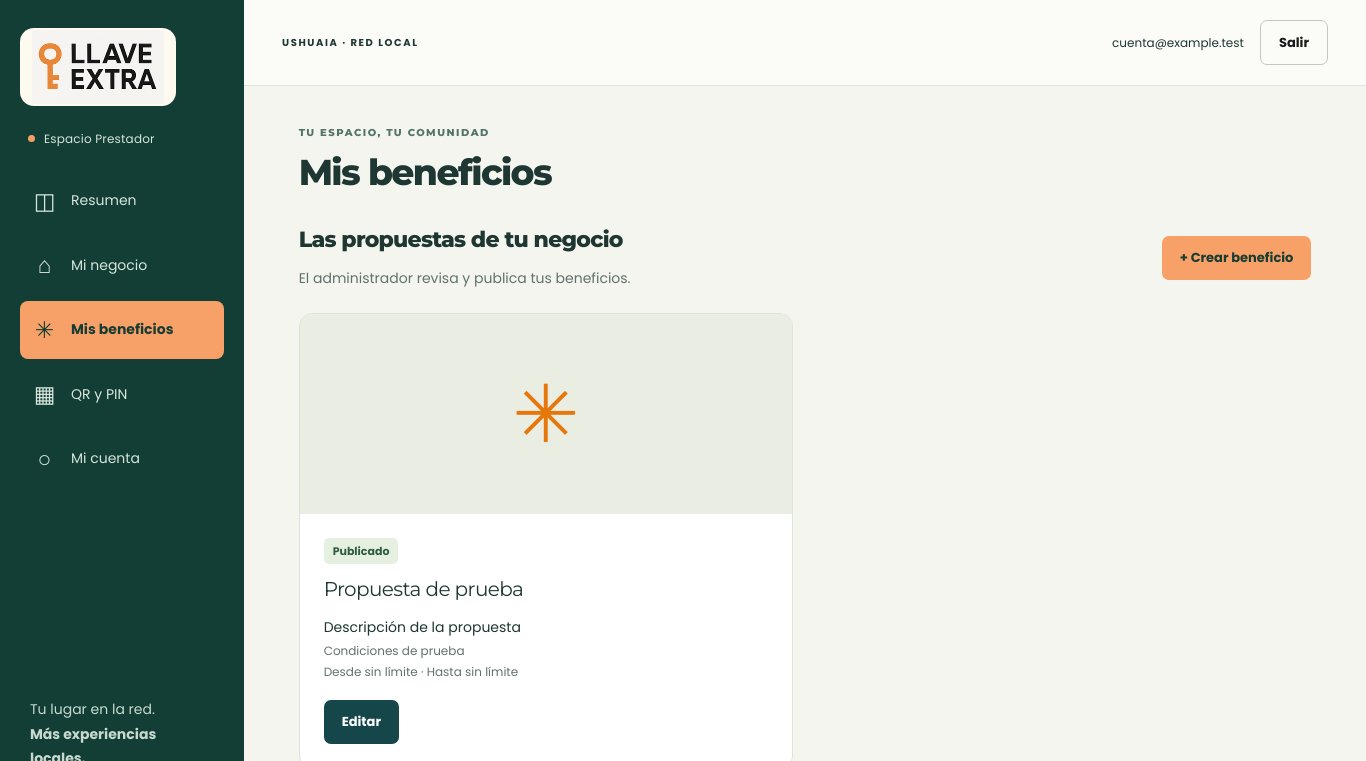
paneles operativos por rol › valida fechas, crea un borrador y confirma la respuesta real
Click the button "+ Crear beneficio": point(1237, 258) [1162,236,1311,280]
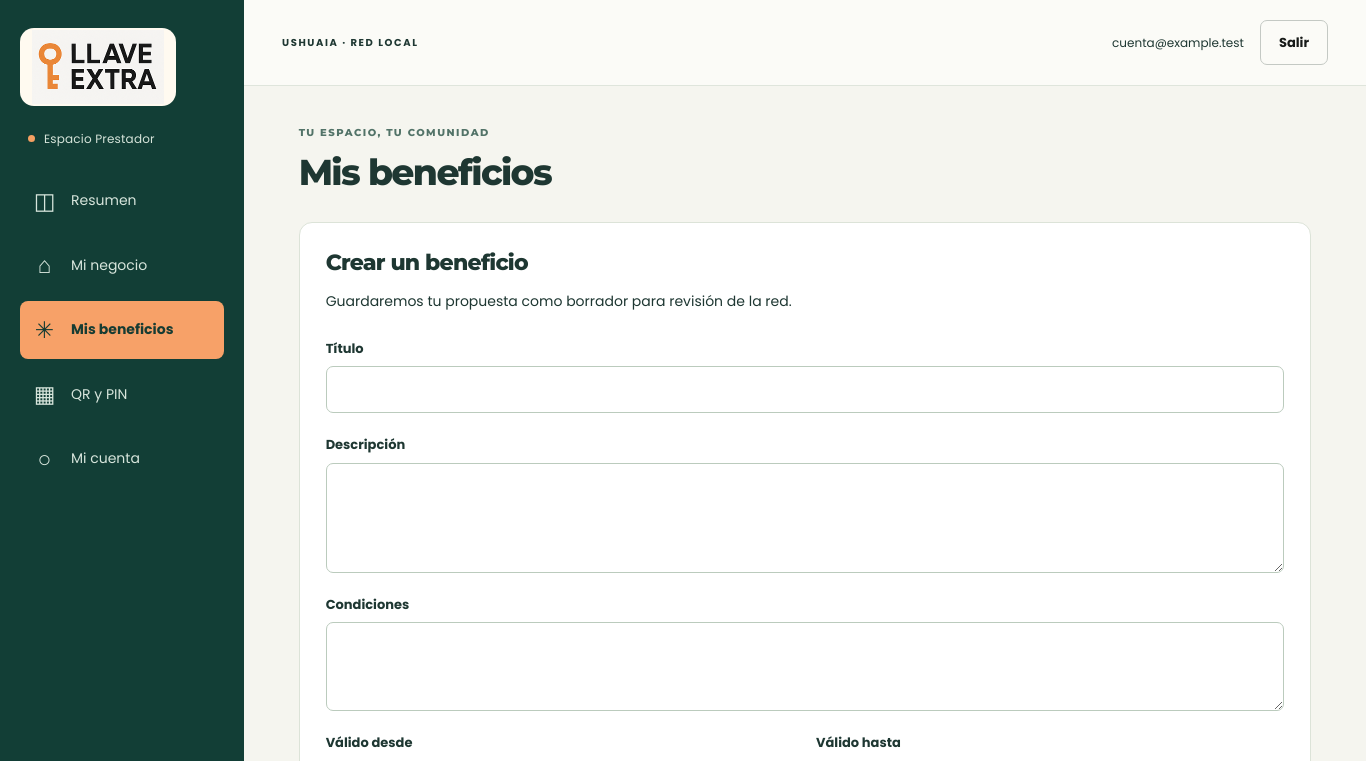
In the field labelled "Título": point(805, 390) [326,366,1284,413], type "Nueva propuesta"
In the text box labelled "Descripción": point(805, 518) [326,463,1284,573], type "Una experiencia local"
(page scrolled)
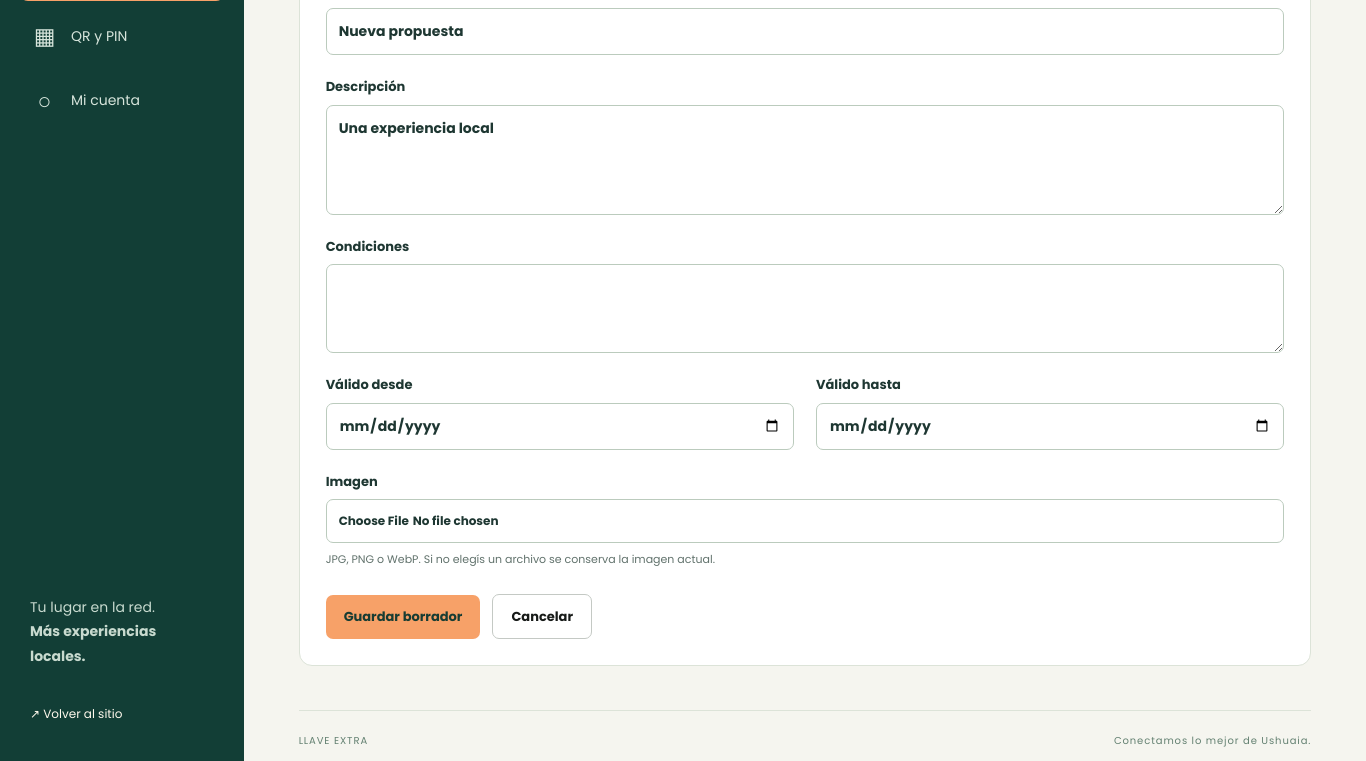
In the date field labelled "Válido desde": point(560, 426) [326,403,794,450], type "2027-01-03"
In the date field labelled "Válido hasta": point(1050, 426) [816,403,1284,450], type "2027-01-01"
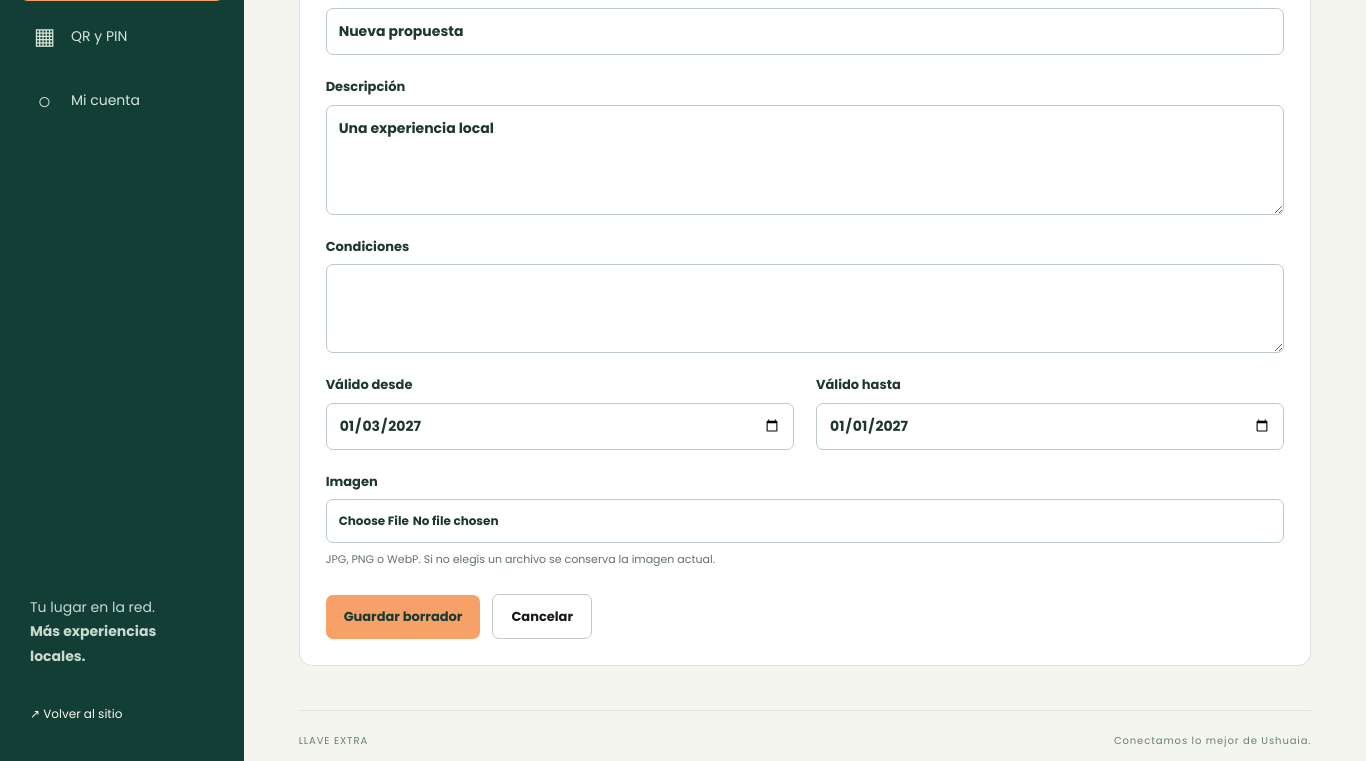
Click the button "Guardar borrador": point(403, 617) [326,595,480,639]
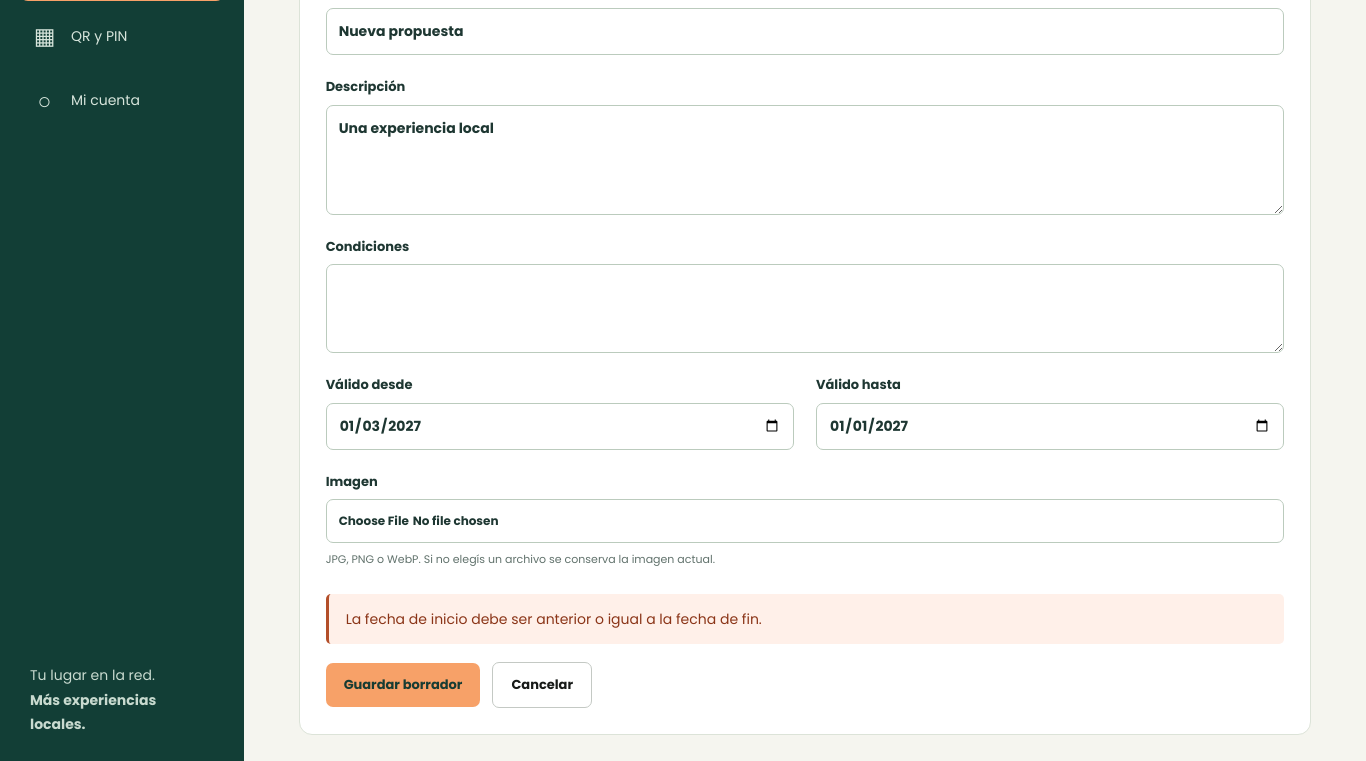
Now the text "La fecha de inicio debe ser anterior o igual a la fecha de fin." is shown, box [326,594,1284,644]
In the date field labelled "Válido hasta": point(1050, 426) [816,403,1284,450], type "2027-01-05"
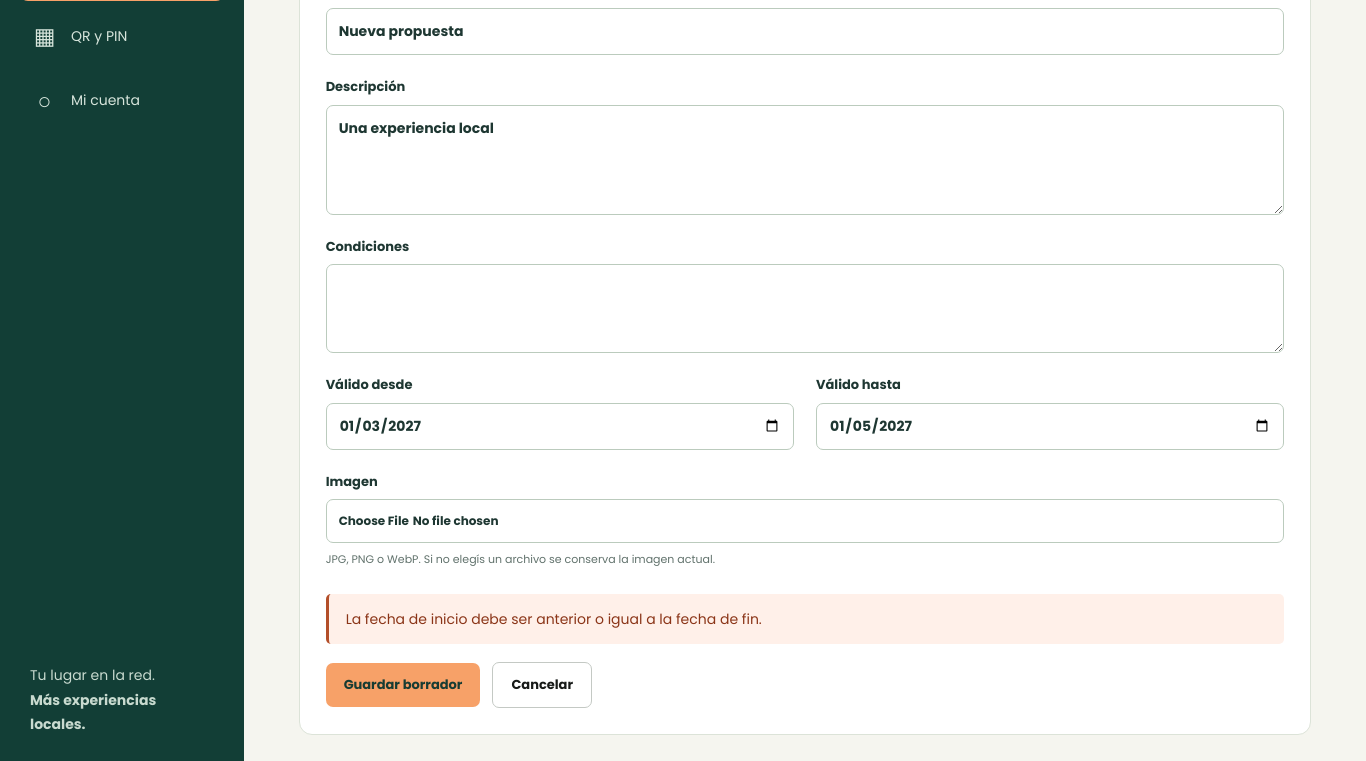
Click the button "Guardar borrador": point(403, 685) [326,663,480,707]
(page scrolled)
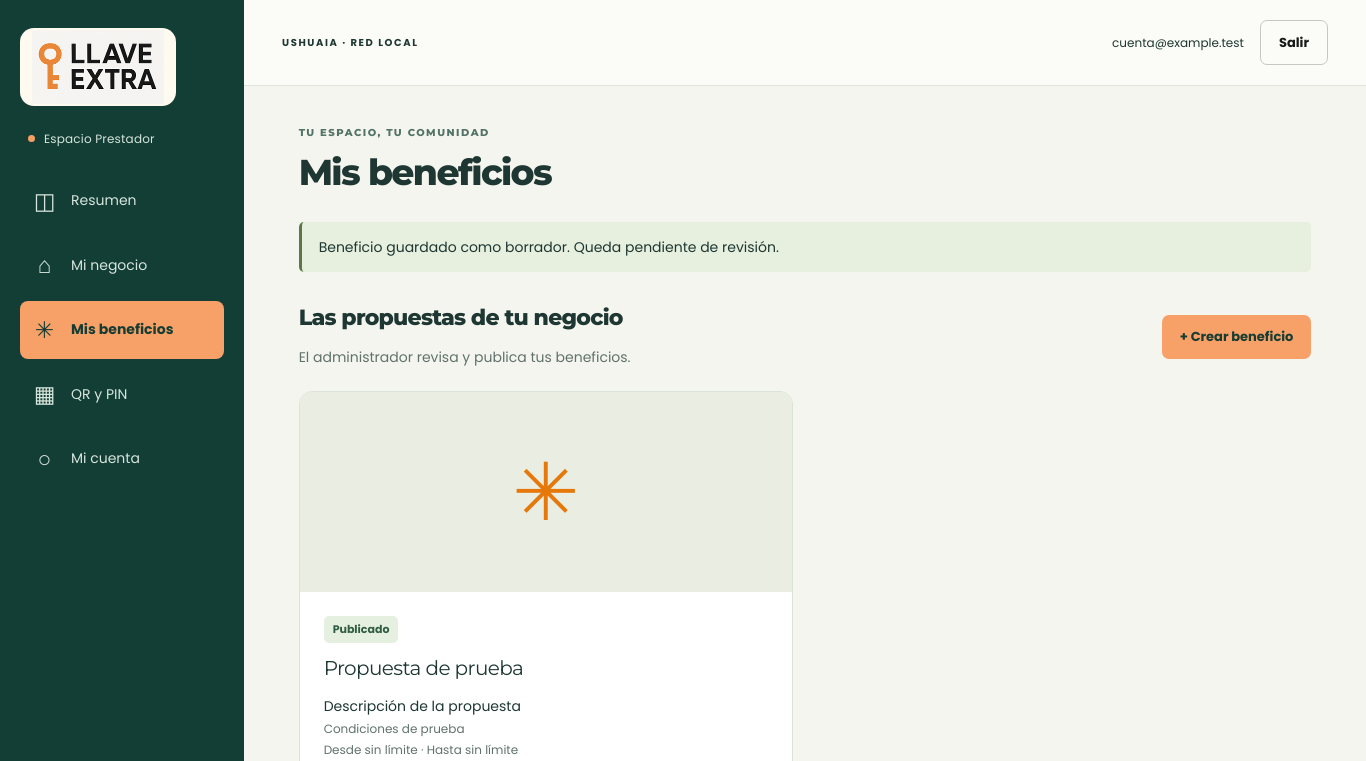
Now the text "Beneficio guardado como borrador. Queda pendiente de revisión." is shown, box [299,222,1311,272]
